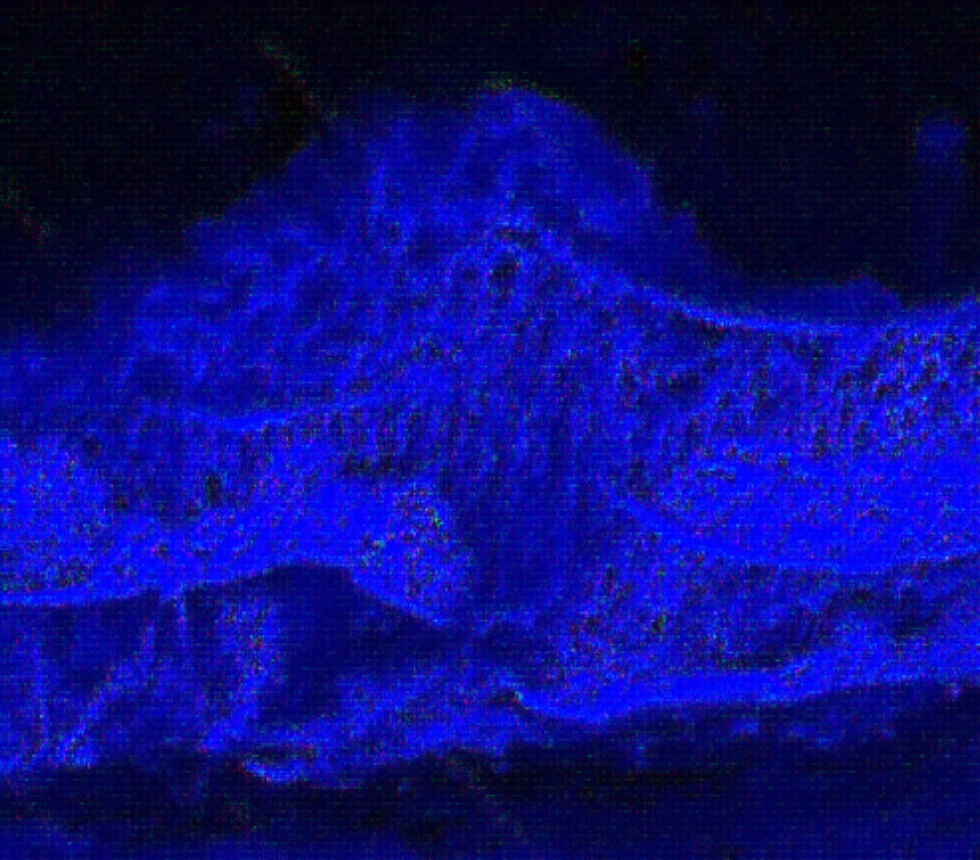rip_current: (350, 63, 652, 689)
